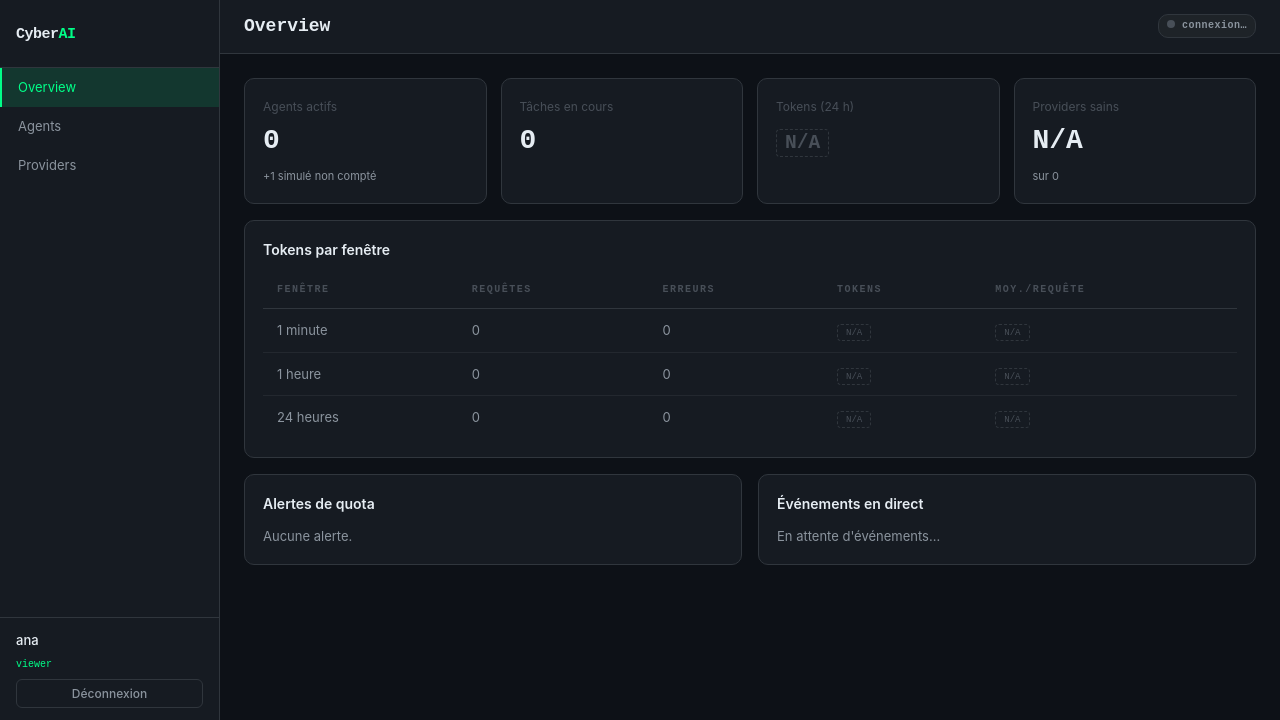
déconnexion
This screenshot has width=1280, height=720.
Click the button "Déconnexion": point(110, 694) [16,679,203,708]
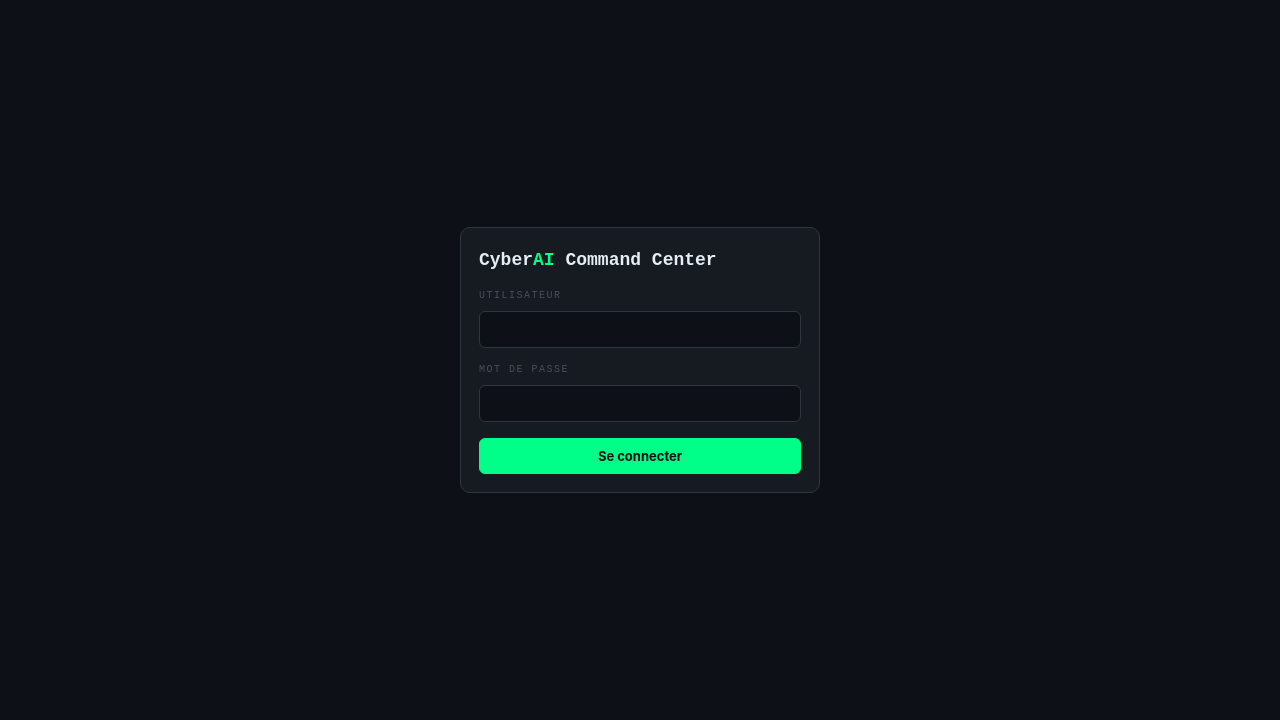
Now the field labelled "Utilisateur" is shown, box [479,311,801,348]
